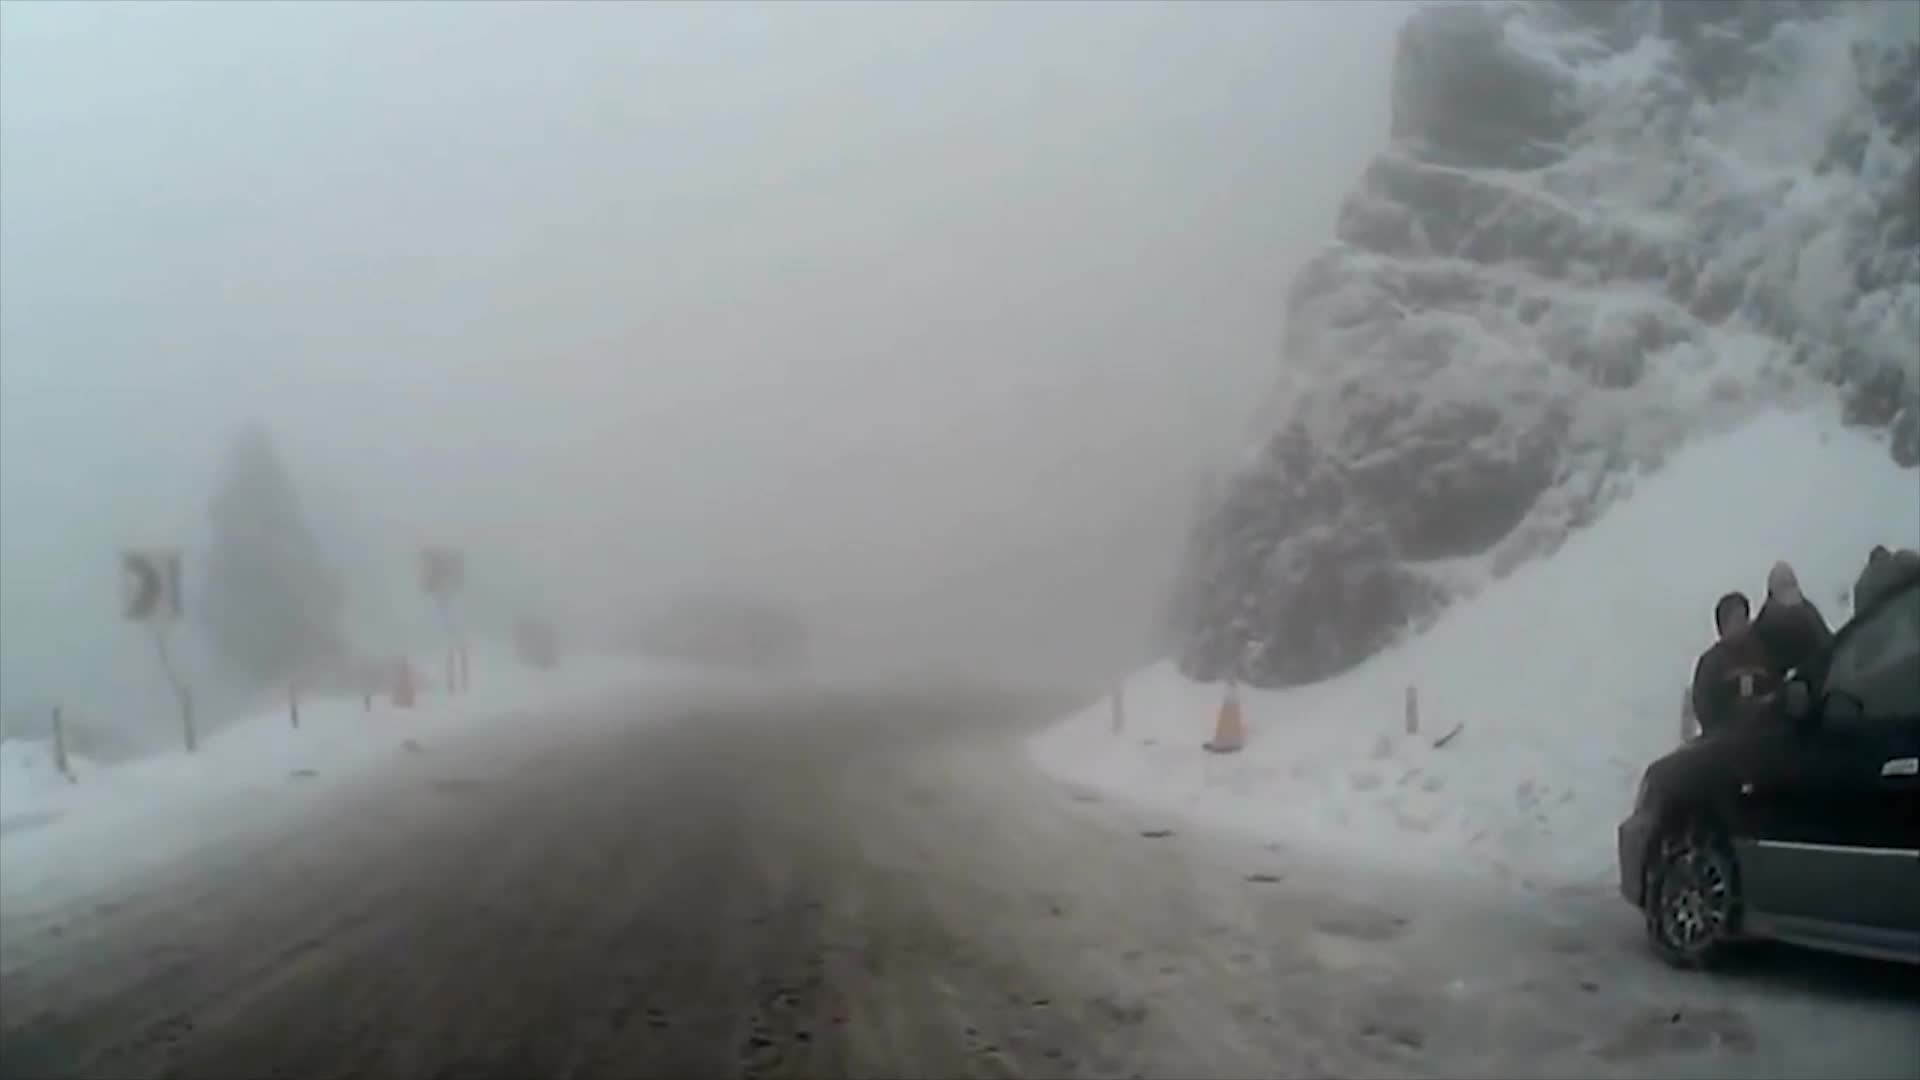pedestrian: (1691, 594, 1789, 906), (1755, 565, 1844, 855)
vehicle: (1614, 576, 1919, 975)
